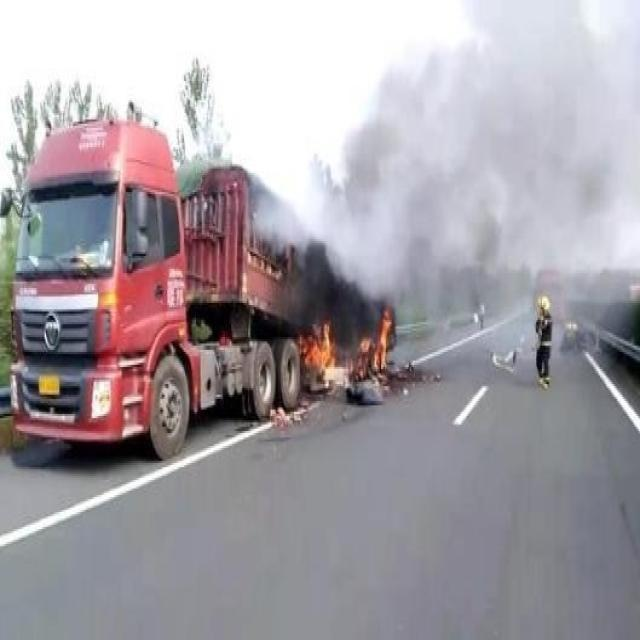Fire: (357, 305, 391, 380), (295, 320, 335, 378)
Smoke: (254, 2, 640, 367)
